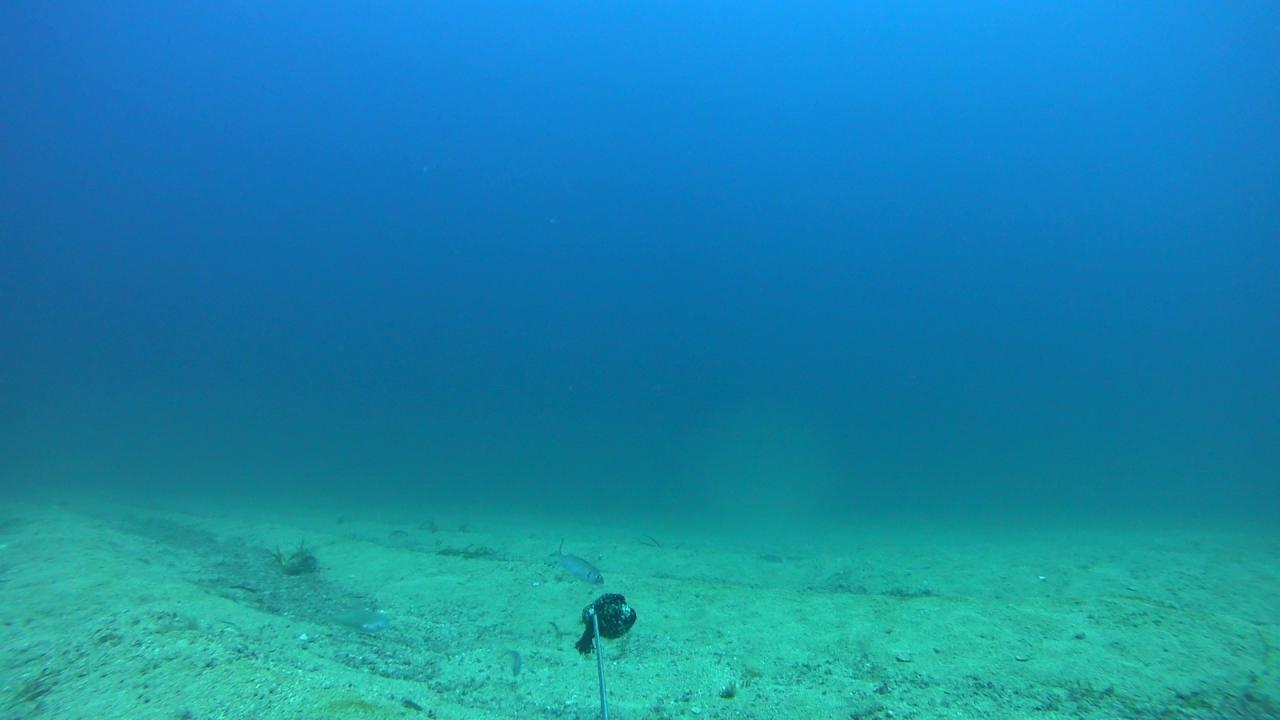pagellus: (548, 537, 605, 586), (490, 640, 525, 677)
raor: (310, 606, 393, 635)
